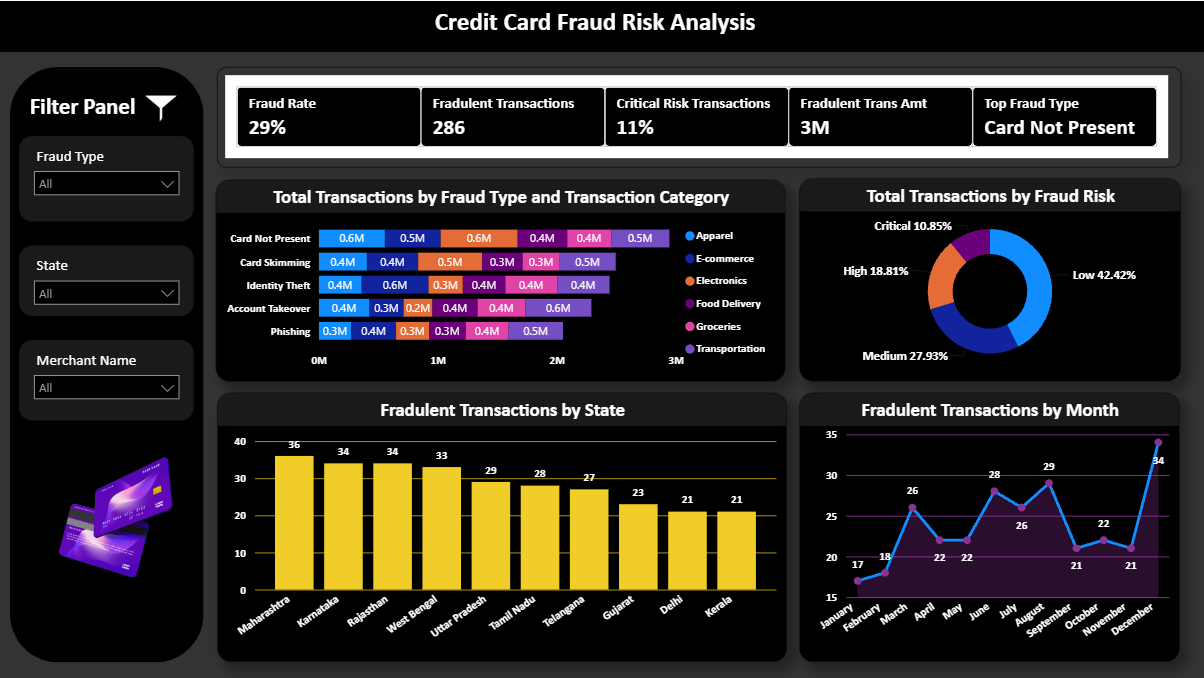

Layout of this report page (visuals, bound fields, positions):
{"tool":"powerbi","page":{"name":"Page 1","canvas":[1280,720],"ordinal":0},"visuals":[{"type":"textbox","box":[0,0,1280.8,53.8],"z":0},{"type":"shape","box":[12.7,70,205.2,631.5],"z":1000},{"type":"textbox","box":[28.3,91.7,131.7,41.7],"z":2000},{"type":"image","box":[149.3,96,46.7,37.3],"z":3000},{"type":"barChart","title":"Total Transactions by Fraud Type and Transaction Category","fields":{"Category":["Credit Card Fraud Risk Analysis.Fraud Type"],"Y":["Credit Card Fraud Risk Analysis.Total Transaction Amount"],"Series":["Credit Card Fraud Risk Analysis.Transaction Category"]},"box":[230.6,189.3,604.4,214.7],"z":4000},{"type":"donutChart","title":"Total Transactions by Fraud Risk","fields":{"Y":["Credit Card Fraud Risk Analysis.Total Transaction Amount"],"Category":["Credit Card Fraud Risk Analysis.Fraud Risk"]},"box":[849.4,187.7,405.6,216.3],"z":5000},{"type":"columnChart","fields":{"Category":["Credit Card Fraud Risk Analysis.State"],"Y":["Credit Card Fraud Risk Analysis.Fradulent Transactions"]},"box":[232.2,415.1,604.4,286.3],"z":6000},{"type":"lineChart","fields":{"Y":["Credit Card Fraud Risk Analysis.Fradulent Transactions"],"Category":["Credit Card Fraud Risk Analysis.Transaction Date.Variation.Date Hierarchy.Month"]},"box":[849.4,415.1,404,286.3],"z":7000},{"type":"slicer","fields":{"Values":["Credit Card Fraud Risk Analysis.Fraud Type"]},"box":[22.7,142.7,185.3,90.7],"z":8000},{"type":"slicer","fields":{"Values":["Credit Card Fraud Risk Analysis.State"]},"box":[22.7,258.7,185.3,74.7],"z":9000},{"type":"slicer","fields":{"Values":["Credit Card Fraud Risk Analysis.Merchant Name"]},"box":[22.7,360,185.3,85.3],"z":10000},{"type":"cardVisual","fields":{"Data":["Credit Card Fraud Risk Analysis.Fraud Rate","Credit Card Fraud Risk Analysis.Fradulent Transactions","Credit Card Fraud Risk Analysis.Critical Risk Transactions","Credit Card Fraud Risk Analysis.Fradulent Transactions Amt","Credit Card Fraud Risk Analysis.Top Fraud Type"]},"box":[232.2,70,1022.8,106.6],"z":11000},{"type":"image","box":[0,468.3,191.5,162.2],"z":11001}]}

Visuals, with their boxes in screenshot pixels (x1, y1, x2, y2), scaled from the page's 1280x720 canvas onto the 1204x678 screenshot:
textbox: [0, 0, 1203, 51]
shape: [12, 66, 205, 661]
textbox: [27, 86, 150, 126]
image: [140, 90, 184, 126]
"Total Transactions by Fraud Type and Transaction Category" barChart: [217, 178, 785, 380]
"Total Transactions by Fraud Risk" donutChart: [799, 177, 1180, 380]
columnChart - Credit Card Fraud Risk Analysis.State x Credit Card Fraud Risk Analysis.Fradulent Transactions: [218, 391, 787, 660]
lineChart - Credit Card Fraud Risk Analysis.Fradulent Transactions x Credit Card Fraud Risk Analysis.Transaction Date.Variation.Date Hierarchy.Month: [799, 391, 1179, 660]
slicer - Credit Card Fraud Risk Analysis.Fraud Type: [21, 134, 196, 220]
slicer - Credit Card Fraud Risk Analysis.State: [21, 244, 196, 314]
slicer - Credit Card Fraud Risk Analysis.Merchant Name: [21, 339, 196, 419]
cardVisual - Credit Card Fraud Risk Analysis.Fraud Rate x Credit Card Fraud Risk Analysis.Fradulent Transactions: [218, 66, 1180, 166]
image: [0, 441, 180, 594]
